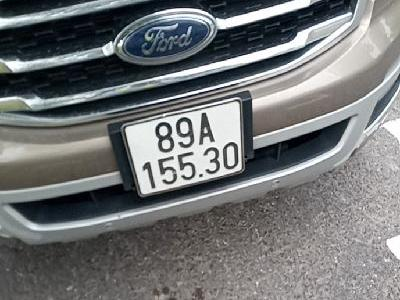lisence: (121, 97, 247, 198)
